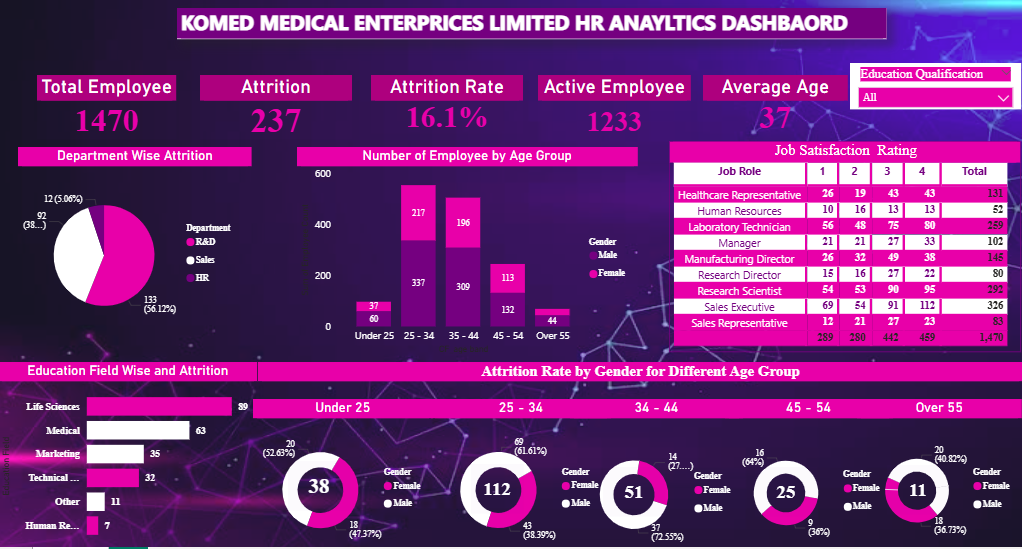

This screenshot's page, from the dashboard's own definition file:
{"tool":"powerbi","page":{"name":"Page 1","canvas":[1280,720],"ordinal":0},"visuals":[{"type":"card","title":"Total Employee","fields":{"Values":["CountNonNull(HR data.Employee Count)"]},"box":[48.9,94.4,174.4,80],"z":0},{"type":"card","title":"Attrition","fields":{"Values":["Sum(HR data.Attrition Count)"]},"box":[252.2,94.4,190,80],"z":1000},{"type":"card","title":"Attrition Rate","fields":{"Values":["HR data.Attrition Rate"]},"box":[466.7,94.4,190,73.3],"z":2000},{"type":"card","title":"Active Employee","fields":{"Values":["HR data.Active Employee"]},"box":[675.6,94.4,191.1,86.7],"z":3000},{"type":"card","title":"Average Age","fields":{"Values":["Avg(HR data.Age)"]},"box":[881.1,94.4,181.1,73.3],"z":4000},{"type":"pieChart","title":"Department Wise Attrition","fields":{"Category":["HR data.Department"],"Y":["Sum(HR data.Attrition Count)"]},"box":[24.4,184.4,292.2,252.2],"z":5000},{"type":"columnChart","title":"Number of Employee by Age Group","fields":{"Y":["Sum(HR data.Employee Count)"],"Category":["HR data.CF_age band"],"Series":["HR data.Gender"]},"box":[373.3,184.4,425.6,263.3],"z":6000},{"type":"pivotTable","title":"Job Satisfaction  Rating","fields":{"Rows":["HR data.Job Role"],"Columns":["HR data.Job Satisfaction"],"Values":["Sum(HR data.Employee Count)"]},"box":[839.1,178,440.3,263.6],"z":7000},{"type":"barChart","title":"Education Field Wise and Attrition","fields":{"Category":["HR data.Education Field"],"Y":["Sum(HR data.Attrition Count)"]},"box":[0,453.3,324.4,266.7],"z":8000},{"type":"donutChart","title":"Under 25","fields":{"Category":["HR data.Gender"],"Y":["Sum(HR data.Attrition Count)"],"Series":["HR data.CF_age band"]},"box":[318.9,500,224.4,208.9],"z":9000},{"type":"textbox","title":"Attrition Rate by Gender for Different Age Group","box":[324.5,453.2,956.4,24.5],"z":10000},{"type":"donutChart","title":"25 - 34","fields":{"Category":["HR data.Gender"],"Y":["Sum(HR data.Attrition Count)"],"Series":["HR data.CF_age band"]},"box":[541.5,500,224.5,208.5],"z":11000},{"type":"donutChart","title":"34 - 44","fields":{"Category":["HR data.Gender"],"Y":["Sum(HR data.Attrition Count)"],"Series":["HR data.CF_age band"]},"box":[714.9,499.8,216,220.2],"z":12000},{"type":"donutChart","title":"45 - 54","fields":{"Category":["HR data.Gender"],"Y":["Sum(HR data.Attrition Count)"],"Series":["HR data.CF_age band"]},"box":[908.5,500,208.5,216],"z":13000},{"type":"donutChart","title":"Over 55","fields":{"Category":["HR data.Gender"],"Y":["Sum(HR data.Attrition Count)"],"Series":["HR data.CF_age band"]},"box":[1073.3,500.5,206.1,210.1],"z":14000},{"type":"card","title":"Total Employee","fields":{"Values":["Sum(HR data.Attrition Count)"]},"box":[362.8,577.7,77.7,61.7],"z":15000},{"type":"card","title":"Total Employee","fields":{"Values":["Sum(HR data.Attrition Count)"]},"box":[591.5,580.8,65.6,61.6],"z":16000},{"type":"card","title":"Total Employee","fields":{"Values":["Sum(HR data.Attrition Count)"]},"box":[756.4,585.1,77.7,61.7],"z":17000},{"type":"card","title":"Total Employee","fields":{"Values":["Sum(HR data.Attrition Count)"]},"box":[946.2,584.8,77.6,61.6],"z":18000},{"type":"card","title":"Total Employee","fields":{"Values":["Sum(HR data.Attrition Count)"]},"box":[1110.6,581.9,77.7,61.7],"z":19000},{"type":"textbox","title":"KOMED MEDICAL ENTERPRICES LIMITED HR ANAYLTICS DASHBAORD","box":[223.5,10.7,887.3,38.8],"z":20000},{"type":"slicer","title":"Education Qualifications","fields":{"Values":["HR data.Education"]},"box":[1065.6,80,214.4,57.8],"z":21000}]}

Visuals, with their boxes on the page's 1280x720 design canvas (x1, y1, x2, y2). These are canvas units, not pixel positions in the 1022x549 screenshot, which may show the page scaled, cropped or inside an application window:
"Total Employee" card: select_region(49, 94, 223, 174)
"Attrition" card: select_region(252, 94, 442, 174)
"Attrition Rate" card: select_region(467, 94, 657, 168)
"Active Employee" card: select_region(676, 94, 867, 181)
"Average Age" card: select_region(881, 94, 1062, 168)
"Department Wise Attrition" pieChart: select_region(24, 184, 317, 437)
"Number of Employee by Age Group" columnChart: select_region(373, 184, 799, 448)
"Job Satisfaction  Rating" pivotTable: select_region(839, 178, 1279, 442)
"Education Field Wise and Attrition" barChart: select_region(0, 453, 324, 720)
"Under 25" donutChart: select_region(319, 500, 543, 709)
"Attrition Rate by Gender for Different Age Group" textbox: select_region(324, 453, 1281, 478)
"25 - 34" donutChart: select_region(542, 500, 766, 708)
"34 - 44" donutChart: select_region(715, 500, 931, 720)
"45 - 54" donutChart: select_region(908, 500, 1117, 716)
"Over 55" donutChart: select_region(1073, 500, 1279, 711)
"Total Employee" card: select_region(363, 578, 440, 639)
"Total Employee" card: select_region(592, 581, 657, 642)
"Total Employee" card: select_region(756, 585, 834, 647)
"Total Employee" card: select_region(946, 585, 1024, 646)
"Total Employee" card: select_region(1111, 582, 1188, 644)
"KOMED MEDICAL ENTERPRICES LIMITED HR ANAYLTICS DASHBAORD" textbox: select_region(224, 11, 1111, 50)
"Education Qualifications" slicer: select_region(1066, 80, 1280, 138)
